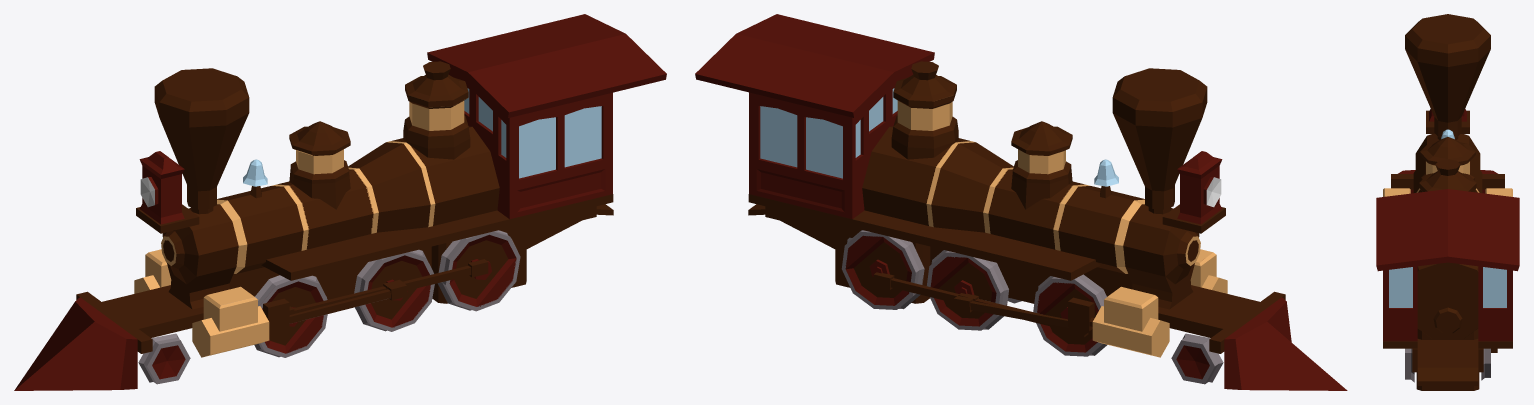
The model's file is TrainHeadUnlit.012d2a37.glb.
3 renders of one model, left to right at view 1: azimuth 30°, elevation 25°; view 2: azimuth 150°, elevation 25°; view 3: azimuth 270°, elevation 25°, orthographic. The views are drawn at different scales.
Parts seen in each view (by area): view 1: locomotive-western-base; view 2: locomotive-western-base; view 3: locomotive-western-base.
Boxes of the visible parts, x1,y1,x2,y2 form: locomotive-western-base: (14, 14, 666, 390); locomotive-western-base: (695, 14, 1347, 390); locomotive-western-base: (1376, 14, 1519, 390).
Size of the model in its own units: 50.86 by 21.68 by 11.78.
1 material, 1 textured.
